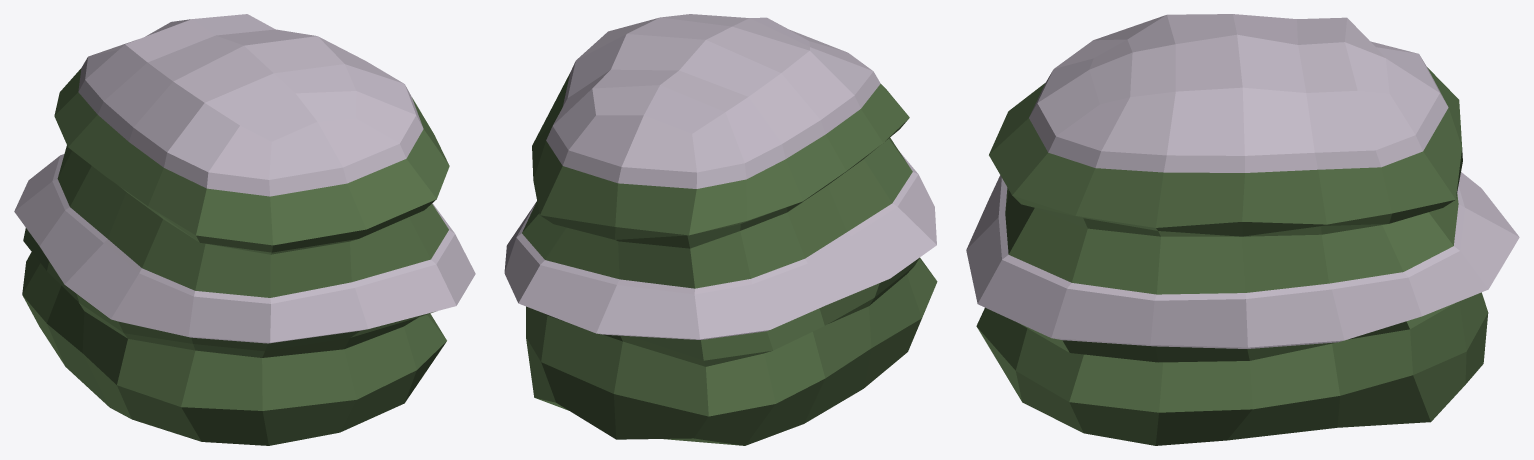
File: bush_snow_1.glb
The picture shows the model from 3 angles, left to right: view 1: azimuth 30°, elevation 25°; view 2: azimuth 150°, elevation 25°; view 3: azimuth 270°, elevation 25°; orthographic projection. The views are drawn at different scales.
Parts seen in each view (by area): view 1: Bush_Snow_1; view 2: Bush_Snow_1; view 3: Bush_Snow_1.
Boxes of the visible parts, left/top/right/bottom form: Bush_Snow_1: left=14, top=14, right=475, bottom=445; Bush_Snow_1: left=504, top=14, right=937, bottom=445; Bush_Snow_1: left=966, top=14, right=1519, bottom=445.
Bounding box in the file's own units: 1.39 × 1.28 × 1.78.
